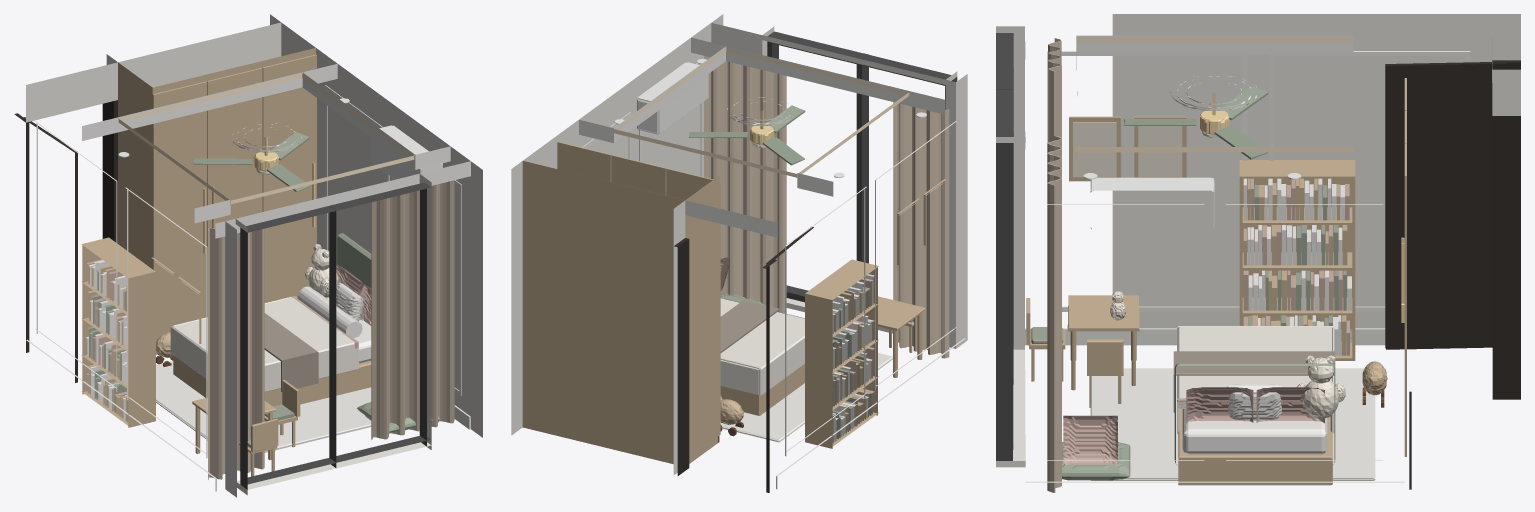
Rendered from ROOM3.glb.
The picture shows the model from 3 angles, left to right: view 1: azimuth 30°, elevation 25°; view 2: azimuth 150°, elevation 25°; view 3: azimuth 270°, elevation 25°; orthographic projection. The views are drawn at different scales.
Parts seen in each view (by area): view 1: WEB_ROOM3; view 2: WEB_ROOM3; view 3: WEB_ROOM3.
Boxes of the visible parts, x1,y1,x2,y2 form: WEB_ROOM3: (14,14,482,497); WEB_ROOM3: (511,14,967,492); WEB_ROOM3: (996,14,1520,492).
Bounding box in the file's own units: 2.5 × 2.5 × 3.6.
